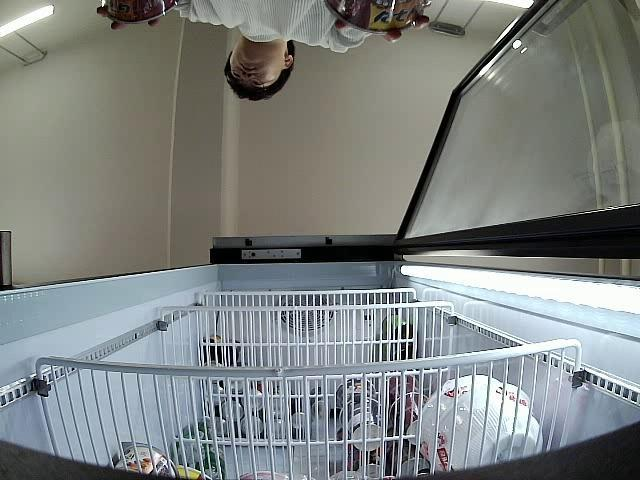05_nuguri_L: (324, 0, 425, 33), (97, 0, 177, 23)
